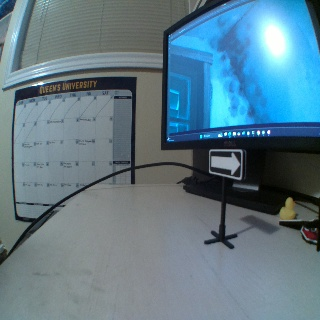sign_oneway_right: (208, 148, 245, 180)
